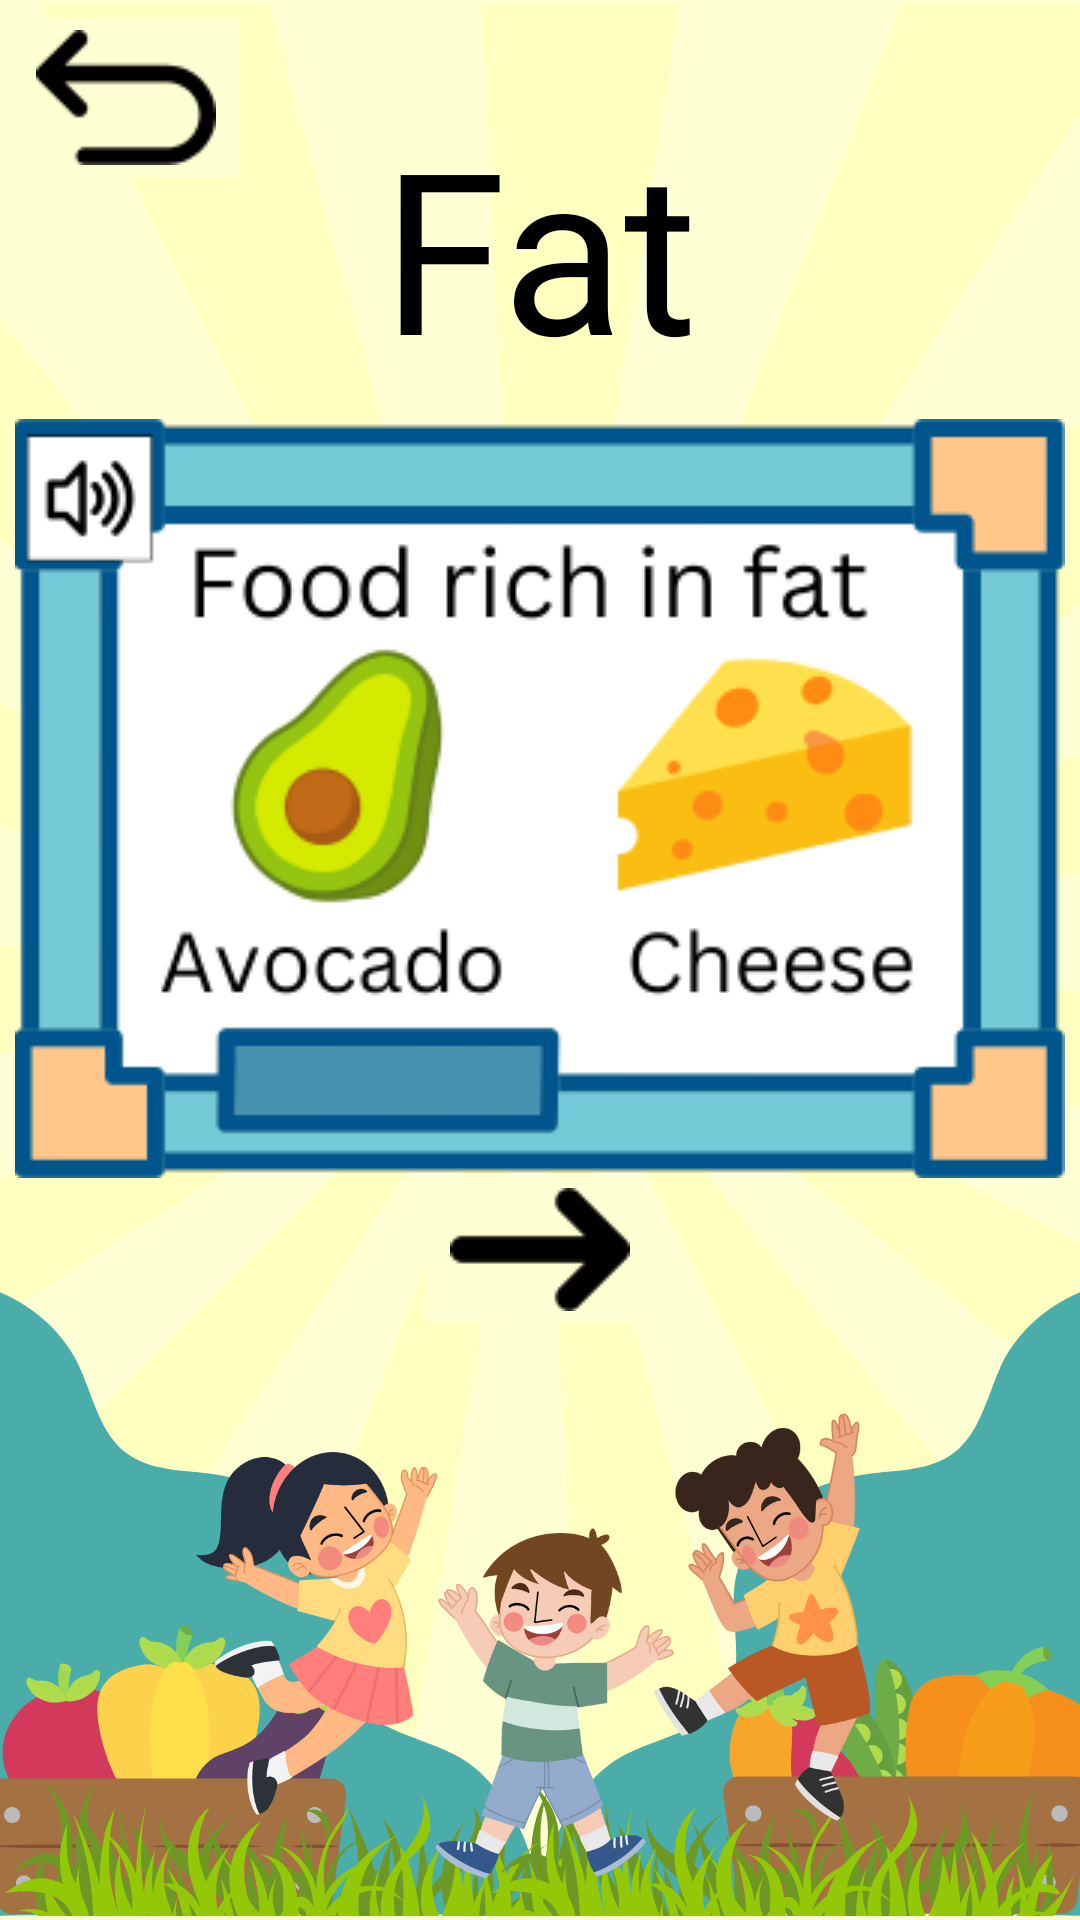

Icon bounding boxes for this 1080×1920 phone screenshot, format bbox=[x1, y1, x2, y2]:
Back: bbox=[36, 30, 216, 165]
Next button: bbox=[450, 1188, 630, 1311]
